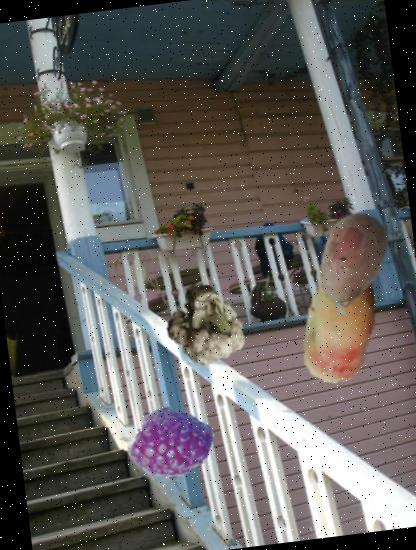Cauliflower: (158, 278, 250, 370)
Peach: (272, 251, 412, 391)
Potato: (291, 204, 410, 322)
Raspberry: (128, 402, 214, 488)
